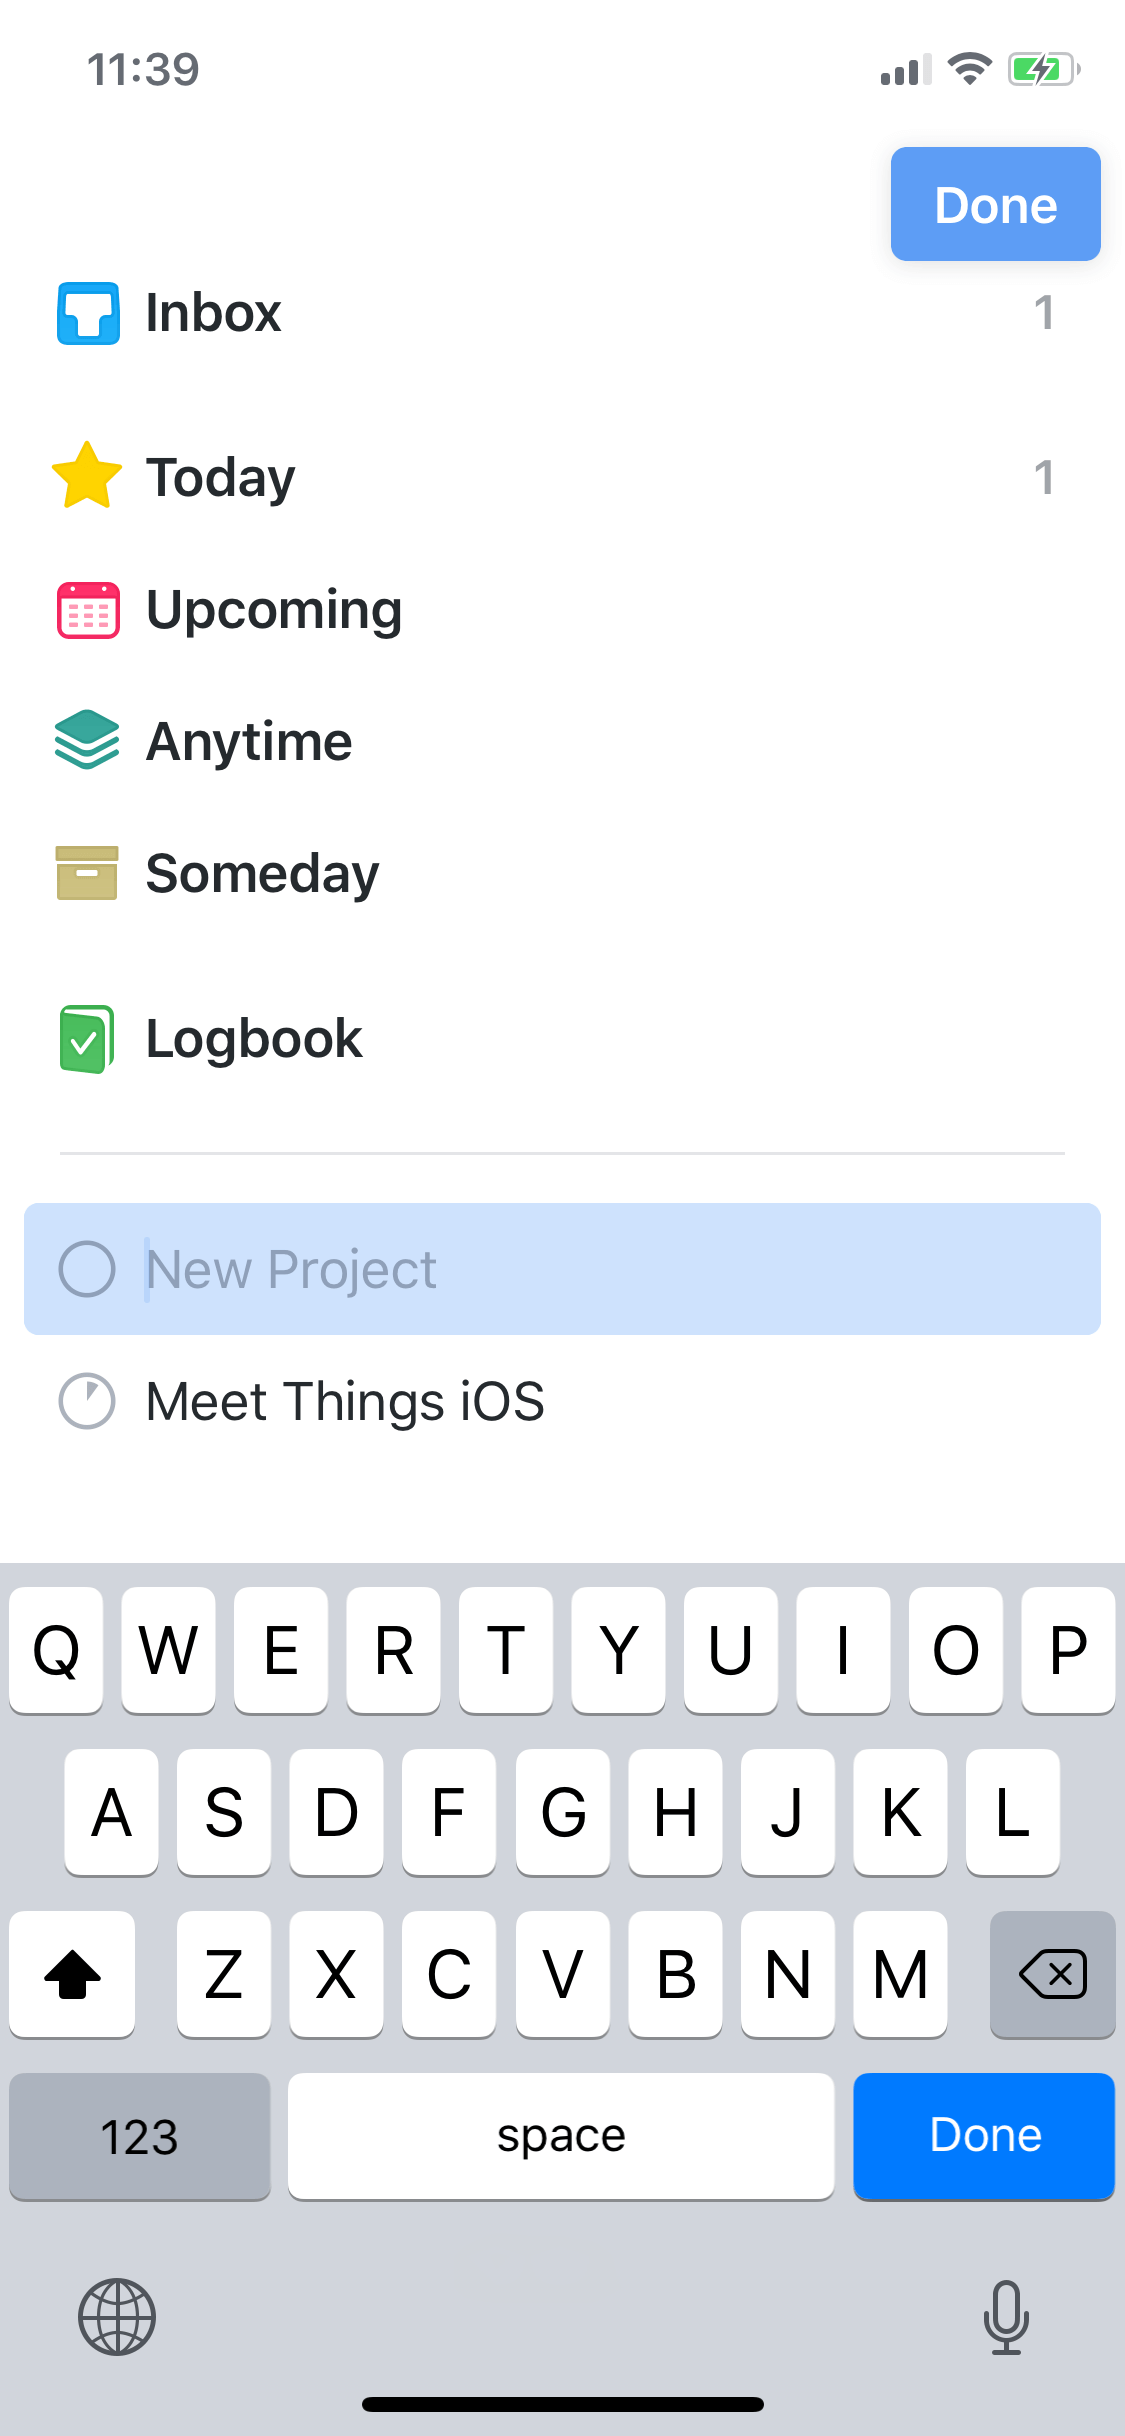Buttons: (878, 123, 1109, 273)
Radio buttons: (14, 1174, 1109, 1355), (14, 1348, 1109, 1463)
